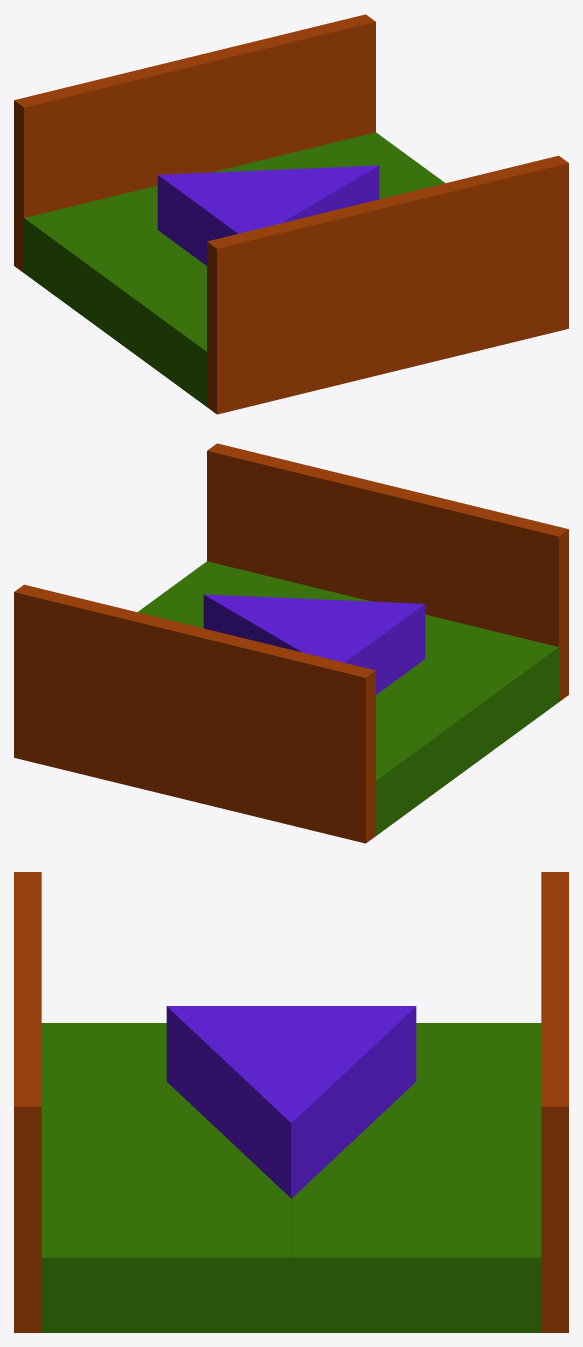
The model's file is triangle_narrow.fbx.
The picture shows the model from 3 angles, top to bottom: view 1: azimuth 30°, elevation 25°; view 2: azimuth 150°, elevation 25°; view 3: azimuth 270°, elevation 25°; orthographic projection. The views are drawn at different scales.
Parts seen in each view (by area): view 1: Plane; view 2: Plane; view 3: Plane.
Boxes of the visible parts, x1,y1,x2,y2 form: Plane: (14, 14, 568, 414); Plane: (14, 443, 568, 843); Plane: (14, 872, 568, 1332).
Bounding box in the file's own units: 200 × 90 × 200.
